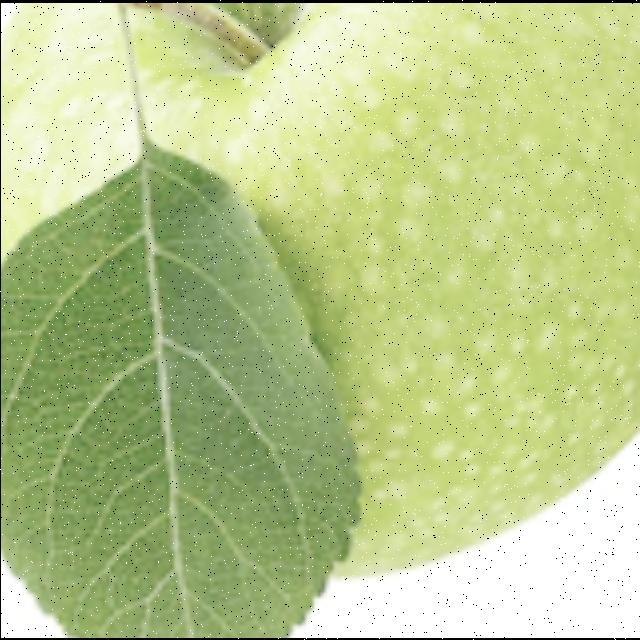Apel Segar: (0, 2, 640, 638)
